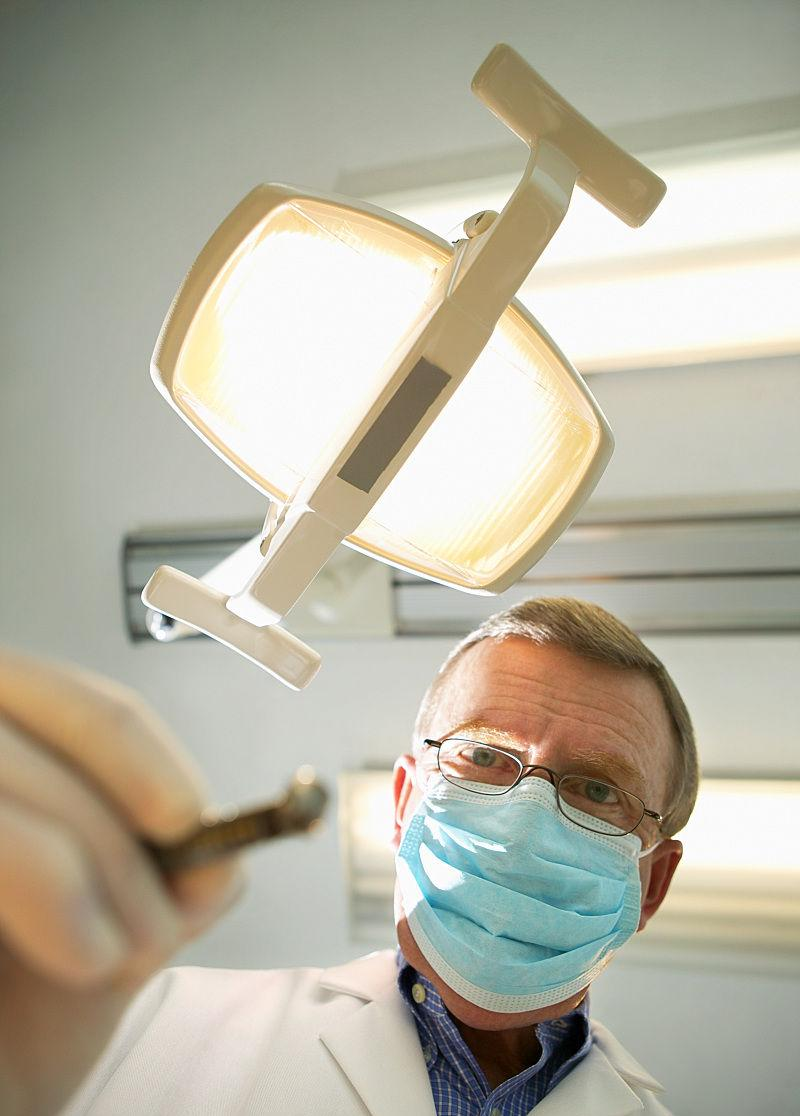face_mask: (395, 639, 650, 1012)
